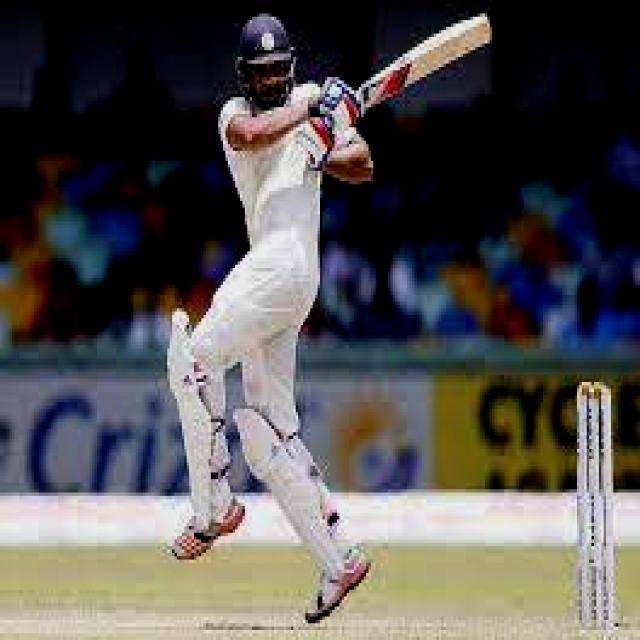toe: (480, 12, 492, 48)
